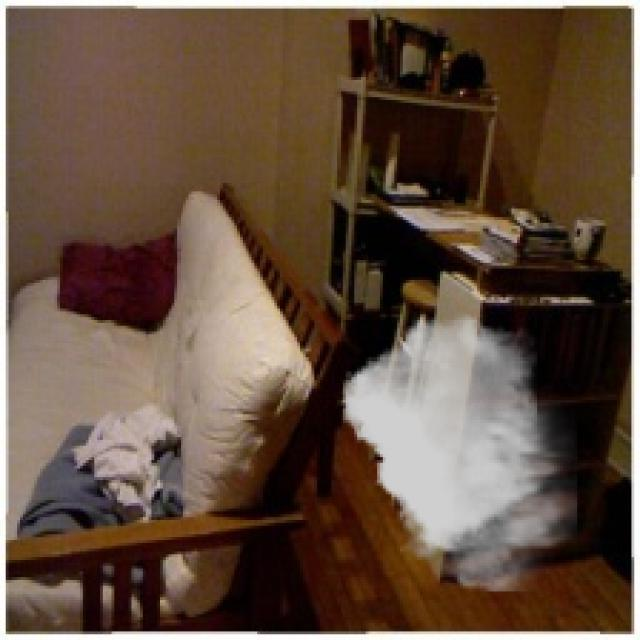Smoke: (342, 314, 578, 592)
